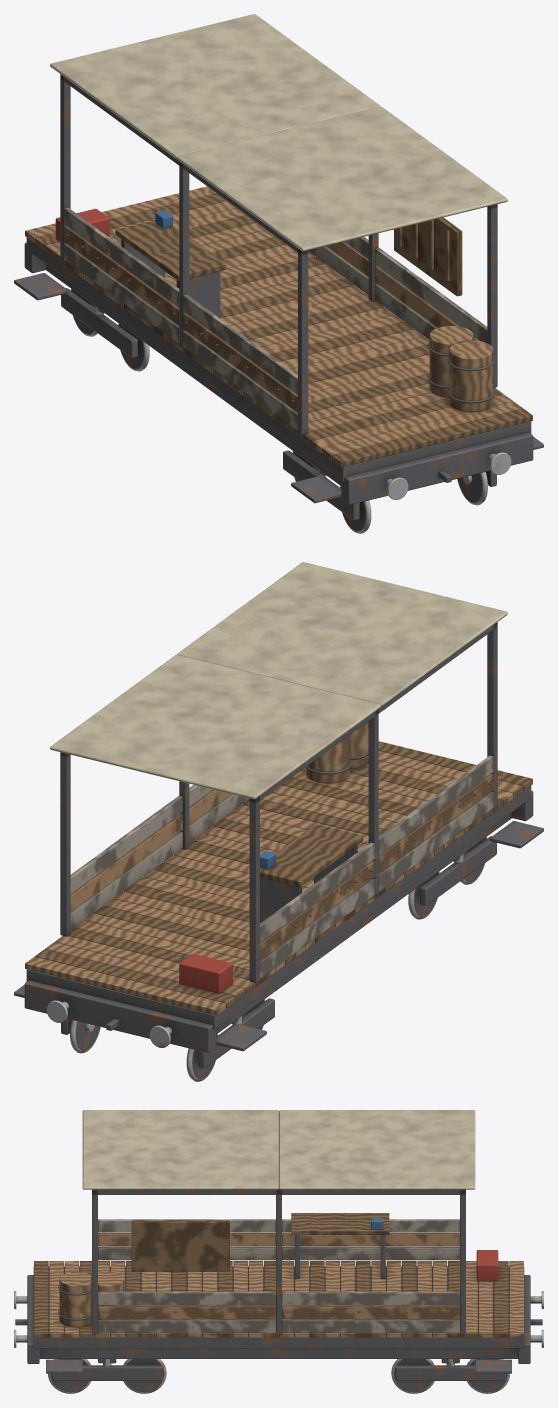
The model's file is utility_wagon.glb.
3 views of the same model, one above another, from view 1: azimuth 30°, elevation 25°; view 2: azimuth 150°, elevation 25°; view 3: azimuth 270°, elevation 25° (orthographic). The views are drawn at different scales.
Parts seen in each view (by area): view 1: Utility, Panel_metal_4, Panel_metal_5, Panel_wood_1, Panel_wood_0, Panel_wood_2, Panel_wood_3, WagonWheel_5; view 2: Utility, Panel_metal_5, Panel_metal_4, Panel_wood_0, Panel_wood_1, Panel_wood_3, Panel_wood_2, WagonWheel_3; view 3: Utility, Panel_metal_4, Panel_metal_5, Panel_wood_2, Panel_wood_3, Panel_wood_1, Panel_wood_0, WagonWheel_1, WagonWheel_7, WagonWheel_3, WagonWheel_5.
Boxes of the visible parts, x1,y1,x2,y2 form: Utility: [14, 74, 543, 520]; Panel_metal_4: [176, 106, 507, 251]; Panel_metal_5: [50, 14, 380, 158]; Panel_wood_1: [64, 207, 179, 343]; Panel_wood_0: [183, 294, 297, 430]; Panel_wood_2: [375, 247, 487, 342]; Panel_wood_3: [308, 237, 368, 294]; WagonWheel_5: [457, 472, 487, 505]; Utility: [14, 622, 543, 1068]; Panel_metal_5: [50, 654, 381, 799]; Panel_metal_4: [177, 562, 507, 706]; Panel_wood_0: [378, 755, 493, 891]; Panel_wood_1: [260, 842, 374, 978]; Panel_wood_3: [70, 795, 182, 929]; Panel_wood_2: [189, 785, 249, 842]; WagonWheel_3: [70, 1020, 100, 1053]; Utility: [14, 1189, 543, 1380]; Panel_metal_4: [82, 1110, 278, 1189]; Panel_metal_5: [279, 1110, 475, 1189]; Panel_wood_2: [98, 1291, 275, 1332]; Panel_wood_3: [282, 1291, 459, 1332]; Panel_wood_1: [282, 1219, 459, 1260]; Panel_wood_0: [98, 1219, 275, 1260]; WagonWheel_1: [391, 1359, 434, 1393]; WagonWheel_7: [123, 1359, 166, 1393]; WagonWheel_3: [467, 1359, 509, 1393]; WagonWheel_5: [48, 1359, 90, 1393].
Bounding box in the file's own units: 3.35 × 4.01 × 8.64.
Materials: 8 (8 with a texture image).
